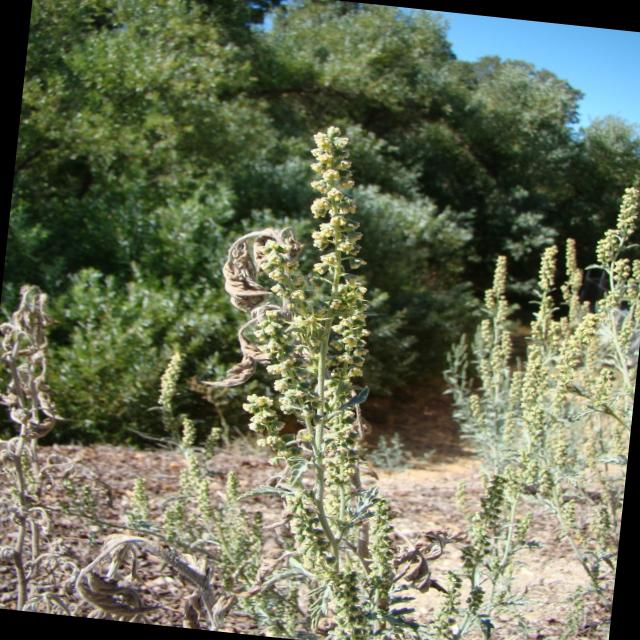ambrosia: (176, 110, 417, 542), (452, 174, 640, 541)
